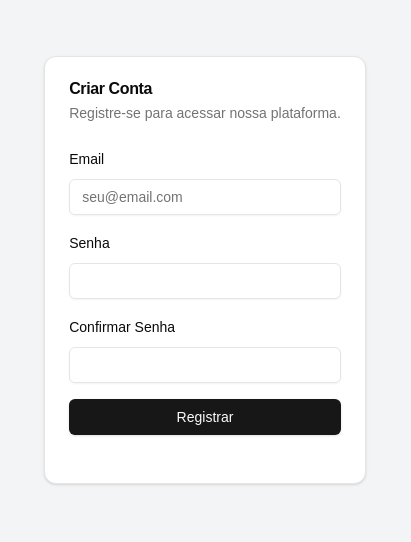
Test: Registro de Usuário › Deve mostrar mensagem de erro se a senha for curta
In the field with test id "email": (205, 197) [69,179,341,215], type "usuario@example.com"
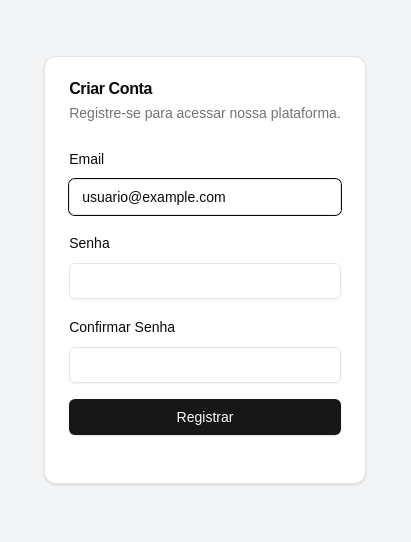
In the password field with test id "senha": (205, 281) [69,263,341,299], type "123"
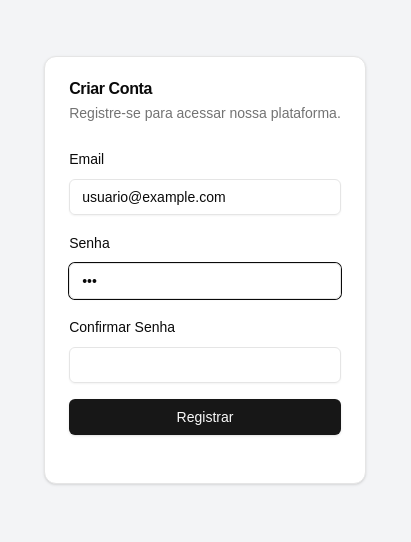
In the password field with test id "csenha": (205, 365) [69,347,341,383], type "123"
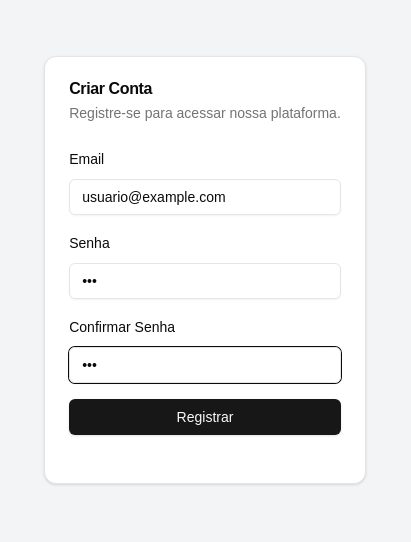
Click the submit button: (205, 417) [69,399,341,435]
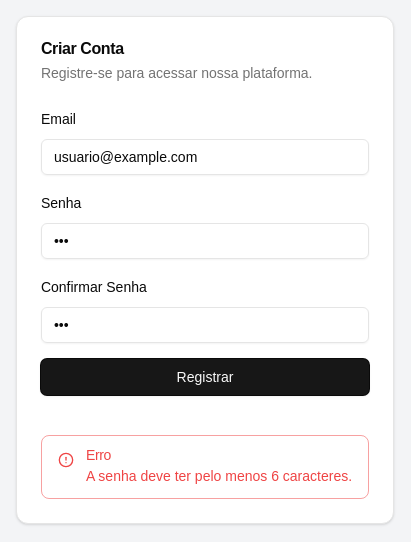
Now the text "A senha deve ter pelo menos 6 caracteres." is shown, box [58,466,352,486]
